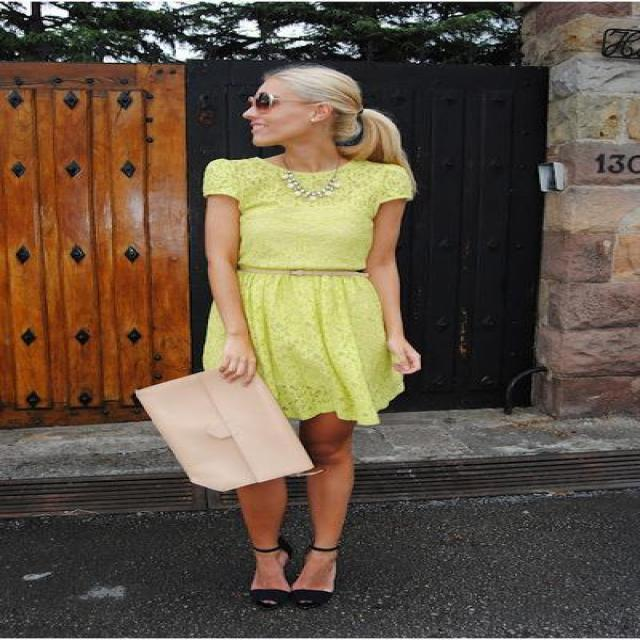bag: (134, 364, 314, 491)
dress: (203, 157, 414, 424)
shoe: (290, 589, 338, 611)
